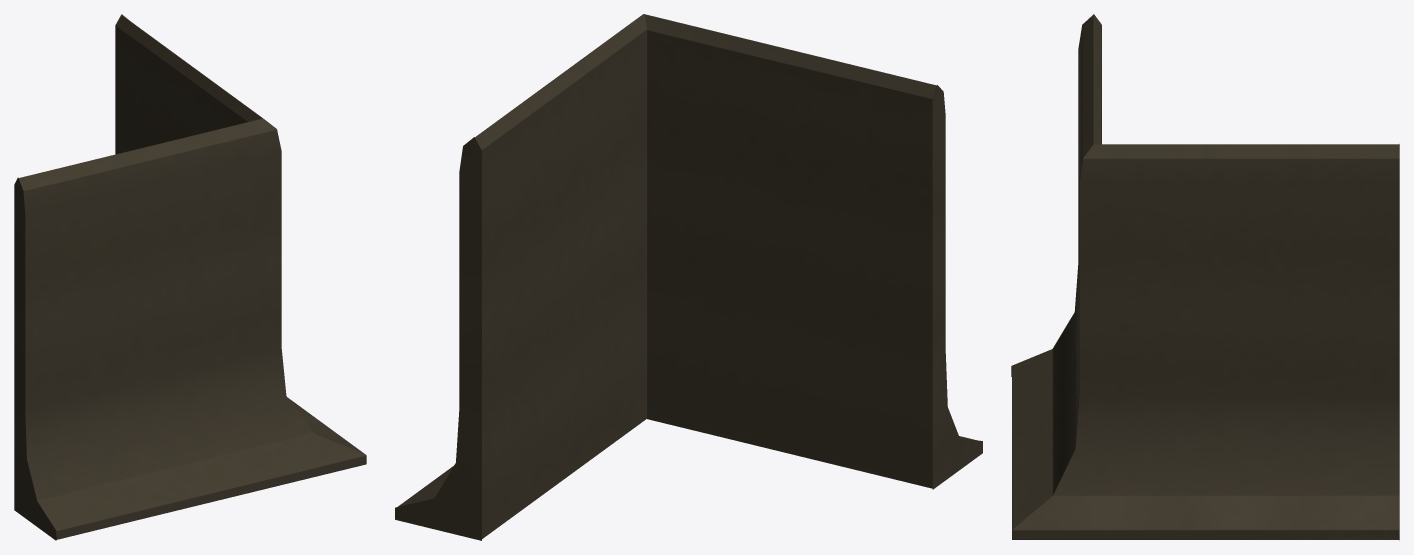
The model's file is cove_corner_090.gltf.
The picture shows the model from 3 angles, left to right: view 1: azimuth 30°, elevation 25°; view 2: azimuth 150°, elevation 25°; view 3: azimuth 270°, elevation 25°; orthographic projection. The views are drawn at different scales.
Parts seen in each view (by area): view 1: cove_corner_090.001; view 2: cove_corner_090.001; view 3: cove_corner_090.001.
Boxes of the visible parts, left/top/right/bottom form: cove_corner_090.001: left=14, top=14, right=366, bottom=540; cove_corner_090.001: left=395, top=14, right=982, bottom=540; cove_corner_090.001: left=1011, top=14, right=1399, bottom=540.
Bounding box in the file's own units: 0.1042 × 0.1074 × 0.1042.
Materials: 1 (1 with a texture image).
